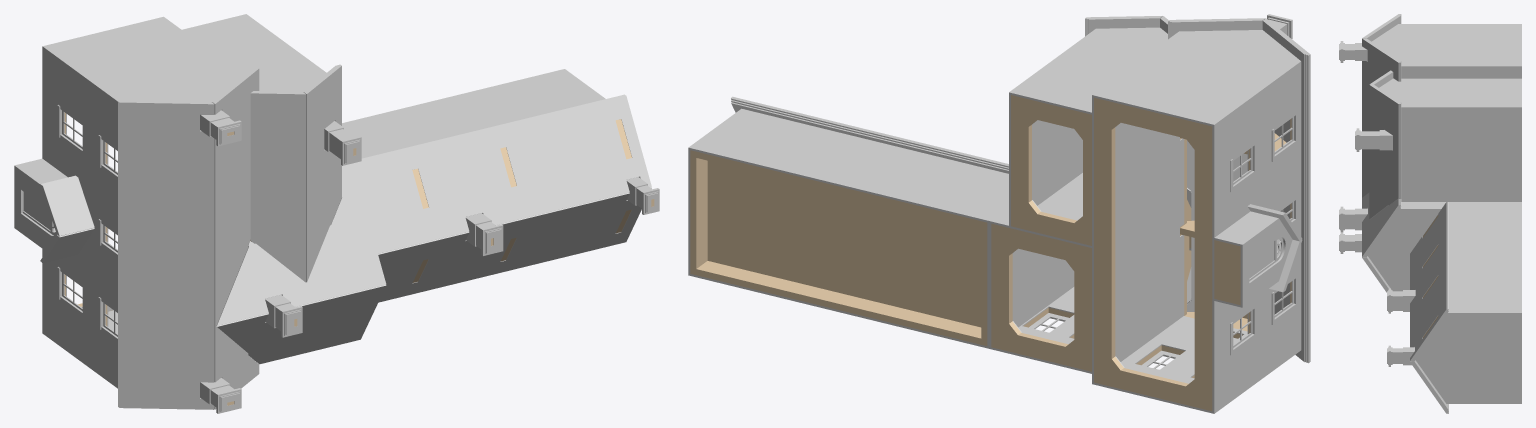
File: stokesley-station.gltf
The picture shows the model from 3 angles, left to right: view 1: azimuth 30°, elevation 25°; view 2: azimuth 150°, elevation 25°; view 3: azimuth 270°, elevation 25°; orthographic projection. The views are drawn at different scales.
Visible parts, largest first — view 1: station_c2_main_house_c5_back_roof_p4_roof_layer_4_part, station_c0_house_c9_front_roof_p4_p4_part, station_c2_main_house_c2_back_wall_p1_outside_wall_part, station_c0_house_c8_back_roof_p4_p4_part, station_c2_main_house_c4_left_wall_p1_outside_wall_part, station_c4_back_house_c4_front_roof_p4_roof_layer_4_part, station_c0_house_c1_front_wall_p1_outside_wall_part, station_c1_side_house_c5_front_roof_p4_roof_layer_4_part, station_c2_main_house_c6_front_roof_p4_roof_layer_4_part, station_c1_side_house_c6_back_roof_p4_roof_layer_4_part, station_c4_back_house_c2_right_wall_p1_outside_wall_part, station_c4_back_house_c5_back_roof_p4_roof_layer_4_part (+5 smaller); view 2: station_c0_house_c0_floor_p0_base_floor_0_part, station_c2_main_house_c2_back_wall_p1_outside_wall_part, station_c0_house_c1_front_wall_p1_outside_wall_part, station_c2_main_house_c1_front_wall_p2_inside_wall_part, station_c2_main_house_c4_left_wall_p1_outside_wall_part, station_c2_main_house_c0_floor_p0_base_floor_part, station_c4_back_house_c2_right_wall_p1_outside_wall_part, station_c1_side_house_c0_floor_p0_base_floor_part, station_c4_back_house_c0_floor_p0_base_floor_part, station_c0_house_c2_back_wall_p0_base_wall_part, station_c4_back_house_c1_back_wall_p2_inside_wall_part, station_c1_side_house_c3_right_wall_p2_inside_wall_part (+24 smaller); view 3: station_c4_back_house_c1_back_wall_p1_outside_wall_part, station_c0_house_c3_right_wall_p3_outside_wall1_part, station_c0_house_c1_front_wall_p1_outside_wall_part, station_c2_main_house_c4_left_wall_p1_outside_wall_part, station_c4_back_house_c2_right_wall_p1_outside_wall_part, station_c0_house_c9_front_roof_p4_p4_part, station_c4_back_house_c5_back_roof_p4_roof_layer_4_part, station_c1_side_house_c3_right_wall_p1_outside_wall_part, station_c2_main_house_c6_front_roof_p4_roof_layer_4_part, station_c2_main_house_c1_front_wall_p1_outside_wall_part, station_c1_side_house_c5_front_roof_p4_roof_layer_4_part, station_c1_side_house_c1_front_wall_p1_outside_wall_part (+9 smaller).
Boxes of the visible parts, x1,y1,x2,y2 form: station_c2_main_house_c5_back_roof_p4_roof_layer_4_part: (119, 102, 214, 409); station_c0_house_c9_front_roof_p4_p4_part: (342, 95, 651, 253); station_c2_main_house_c2_back_wall_p1_outside_wall_part: (42, 48, 117, 386); station_c0_house_c8_back_roof_p4_p4_part: (378, 187, 651, 302); station_c2_main_house_c4_left_wall_p1_outside_wall_part: (42, 16, 243, 103); station_c4_back_house_c4_front_roof_p4_roof_layer_4_part: (250, 93, 305, 282); station_c0_house_c1_front_wall_p1_outside_wall_part: (342, 69, 603, 158); station_c1_side_house_c5_front_roof_p4_roof_layer_4_part: (216, 193, 386, 325); station_c2_main_house_c6_front_roof_p4_roof_layer_4_part: (214, 68, 259, 409); station_c1_side_house_c6_back_roof_p4_roof_layer_4_part: (216, 284, 386, 364); station_c4_back_house_c2_right_wall_p1_outside_wall_part: (182, 14, 326, 91); station_c4_back_house_c5_back_roof_p4_roof_layer_4_part: (306, 65, 341, 282); station_c0_house_c0_floor_p0_base_floor_0_part: (707, 161, 981, 327); station_c2_main_house_c2_back_wall_p1_outside_wall_part: (1212, 63, 1301, 411); station_c0_house_c1_front_wall_p1_outside_wall_part: (690, 109, 1008, 222); station_c2_main_house_c1_front_wall_p2_inside_wall_part: (1116, 123, 1184, 361); station_c2_main_house_c4_left_wall_p1_outside_wall_part: (1092, 30, 1301, 126); station_c2_main_house_c0_floor_p0_base_floor_part: (1094, 105, 1212, 403); station_c4_back_house_c2_right_wall_p1_outside_wall_part: (1009, 27, 1167, 114); station_c1_side_house_c0_floor_p0_base_floor_part: (991, 229, 1091, 365); station_c4_back_house_c0_floor_p0_base_floor_part: (1011, 99, 1091, 243); station_c0_house_c2_back_wall_p0_base_wall_part: (696, 261, 981, 344); station_c4_back_house_c1_back_wall_p2_inside_wall_part: (1032, 120, 1082, 205); station_c1_side_house_c3_right_wall_p2_inside_wall_part: (1013, 248, 1074, 327); station_c4_back_house_c1_back_wall_p1_outside_wall_part: (1401, 109, 1521, 201); station_c0_house_c3_right_wall_p3_outside_wall1_part: (1403, 312, 1521, 403); station_c0_house_c1_front_wall_p1_outside_wall_part: (1448, 209, 1521, 312); station_c2_main_house_c4_left_wall_p1_outside_wall_part: (1372, 24, 1521, 67); station_c4_back_house_c2_right_wall_p1_outside_wall_part: (1379, 78, 1521, 108); station_c0_house_c9_front_roof_p4_p4_part: (1410, 202, 1447, 361); station_c4_back_house_c5_back_roof_p4_roof_layer_4_part: (1369, 85, 1399, 219); station_c1_side_house_c3_right_wall_p1_outside_wall_part: (1368, 208, 1521, 291); station_c2_main_house_c6_front_roof_p4_roof_layer_4_part: (1362, 38, 1399, 197); station_c2_main_house_c1_front_wall_p1_outside_wall_part: (1401, 67, 1521, 78); station_c1_side_house_c5_front_roof_p4_roof_layer_4_part: (1362, 192, 1399, 257); station_c1_side_house_c1_front_wall_p1_outside_wall_part: (1401, 202, 1521, 208).
Bounding box in the file's own units: 322 × 166 × 126.
